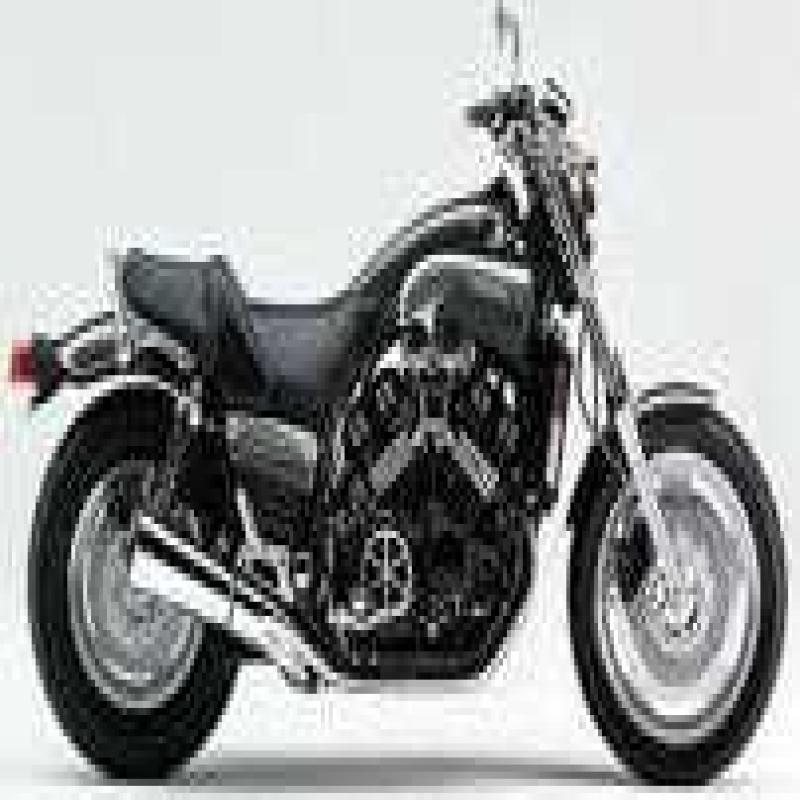bike: (11, 10, 795, 800)
